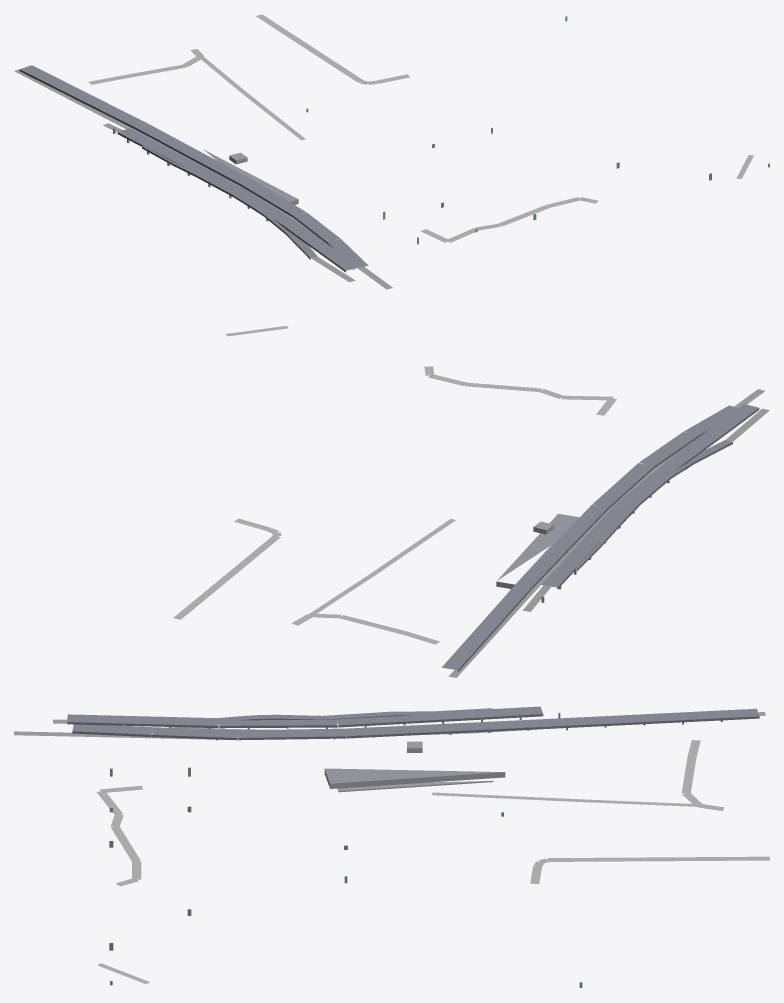
3 views of the same model, one above another, from view 1: azimuth 30°, elevation 25°; view 2: azimuth 150°, elevation 25°; view 3: azimuth 270°, elevation 25° (orthographic). The views are drawn at different scales.
Bounding box in the file's own units: 486 × 38.55 × 579.
